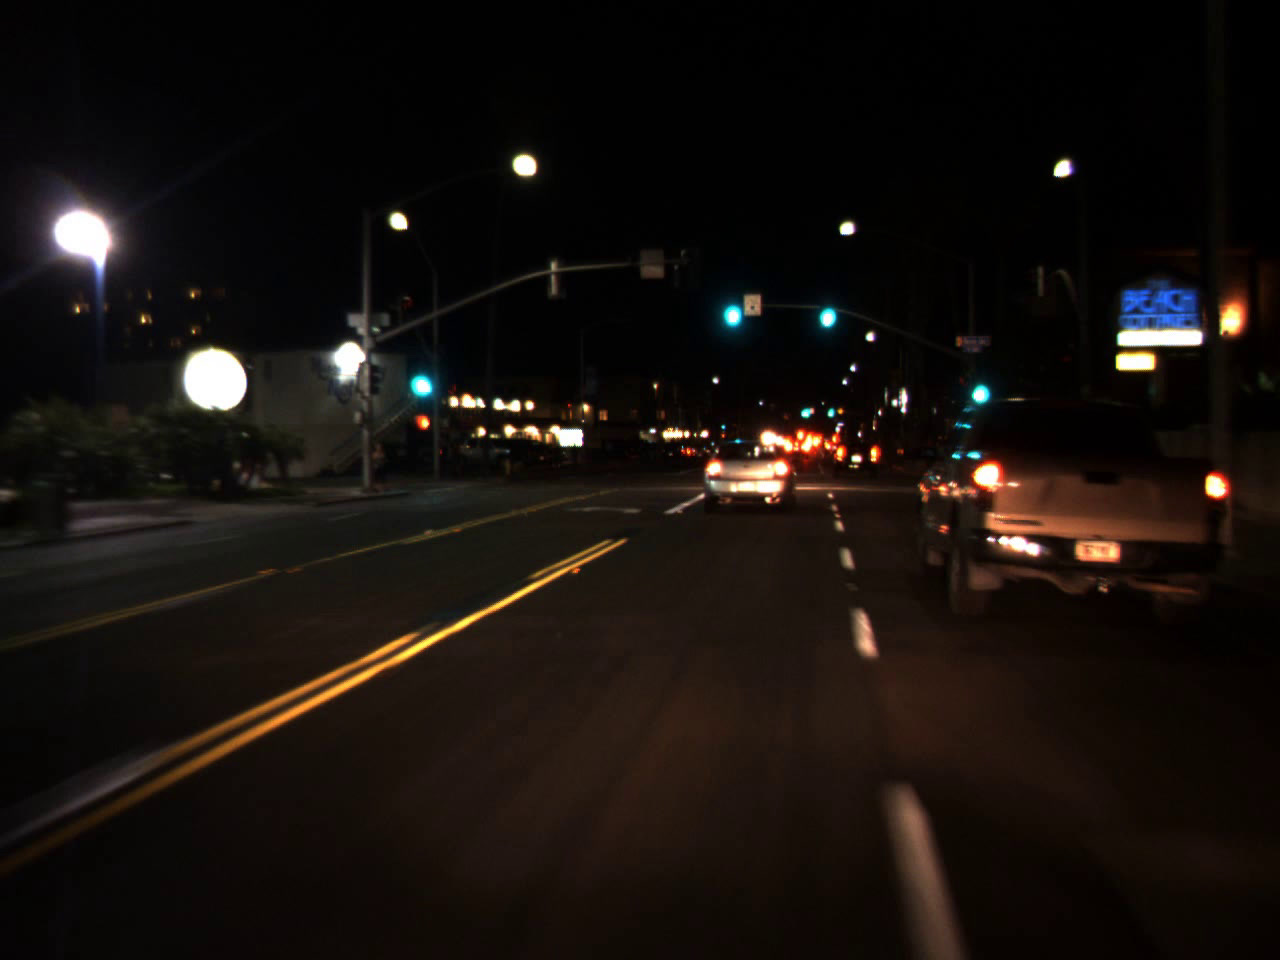go: (402, 346, 438, 406), (715, 277, 745, 334), (812, 283, 840, 334), (964, 366, 992, 405), (798, 397, 812, 421), (826, 398, 835, 419)
